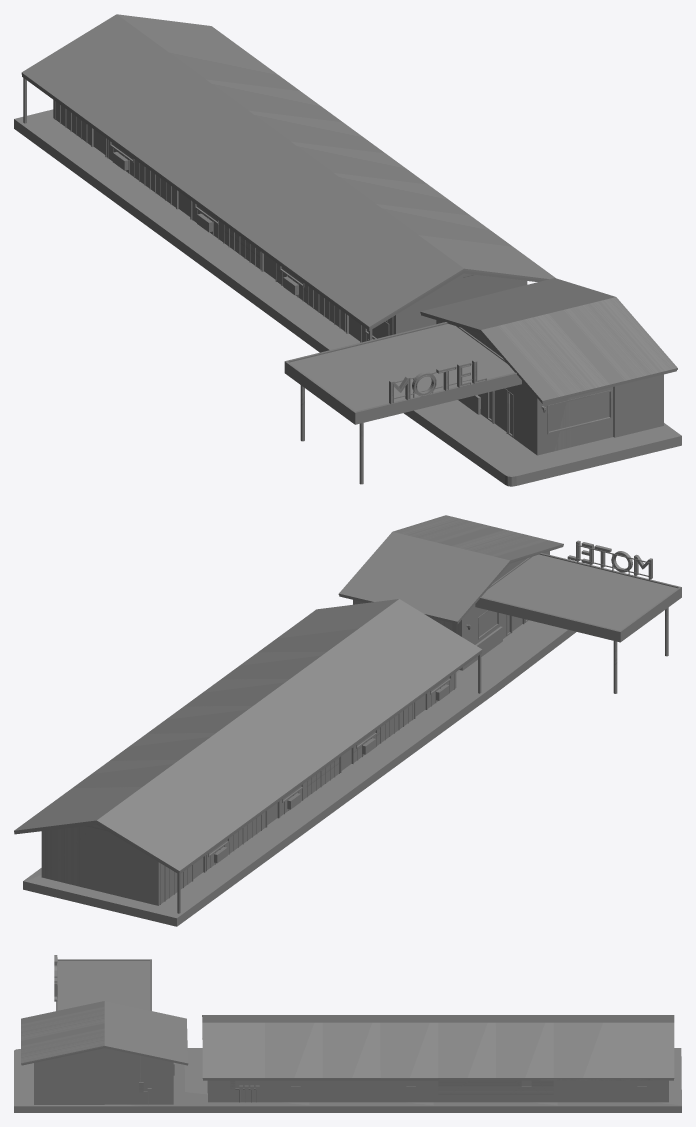
The picture shows the model from 3 angles, top to bottom: view 1: azimuth 30°, elevation 25°; view 2: azimuth 150°, elevation 25°; view 3: azimuth 270°, elevation 25°; orthographic projection. The views are drawn at different scales.
Size of the model in its own units: 20.82 by 6.73 by 56.91.
